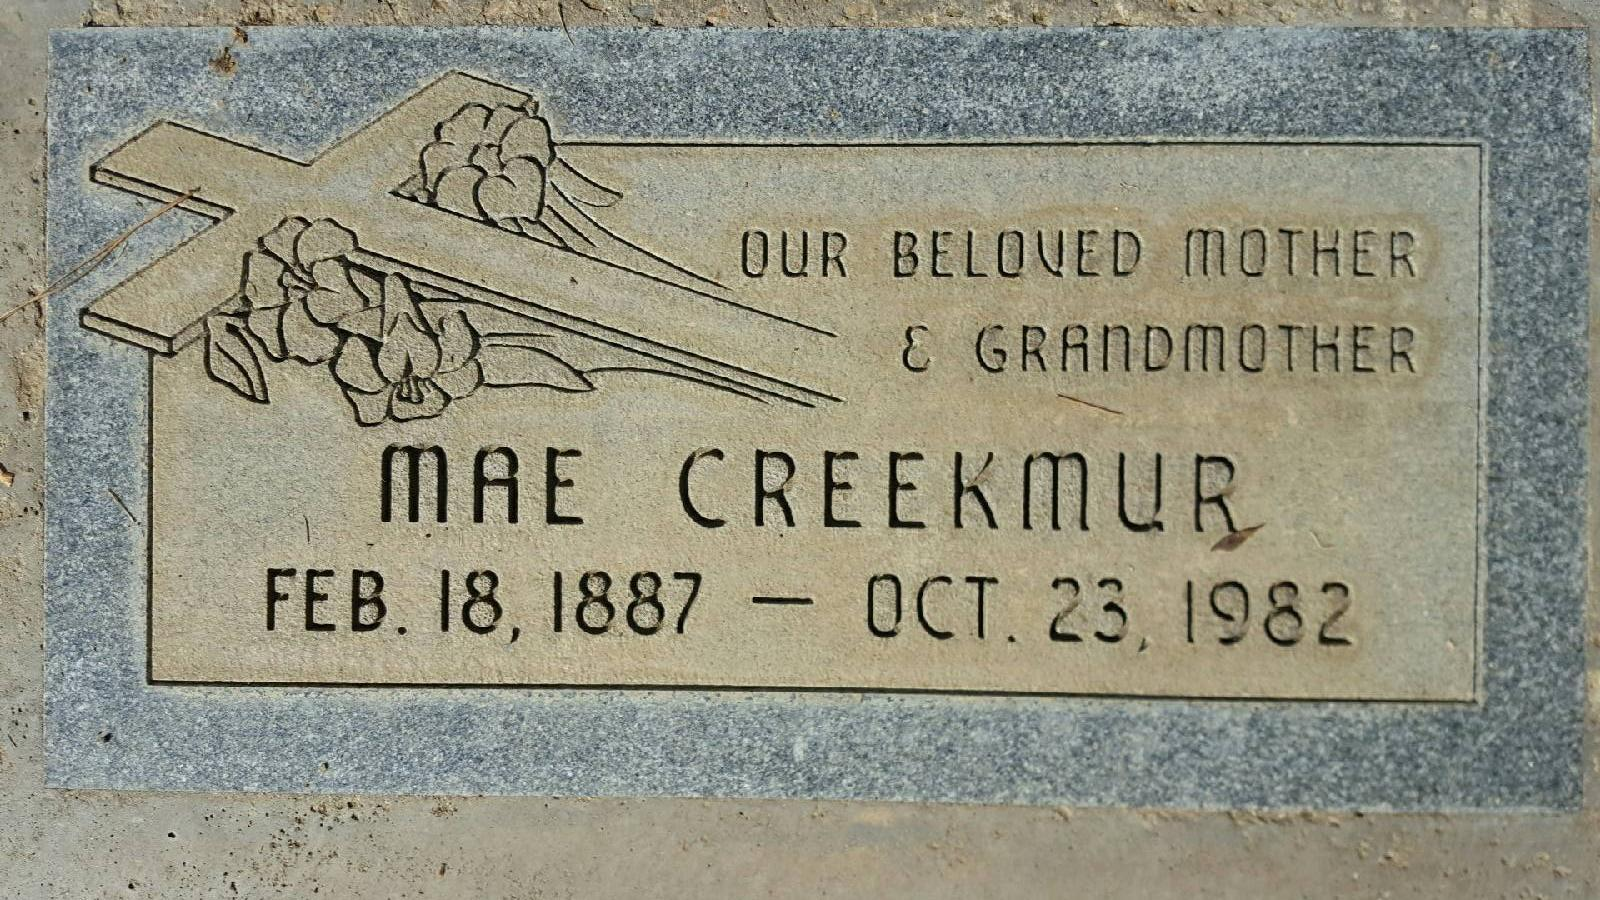flat: (45, 26, 1587, 810)
